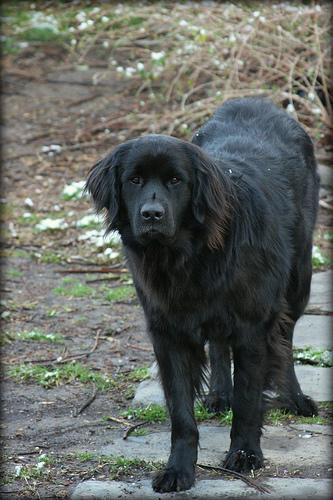dog-newfoundland: (87, 133, 227, 245)
